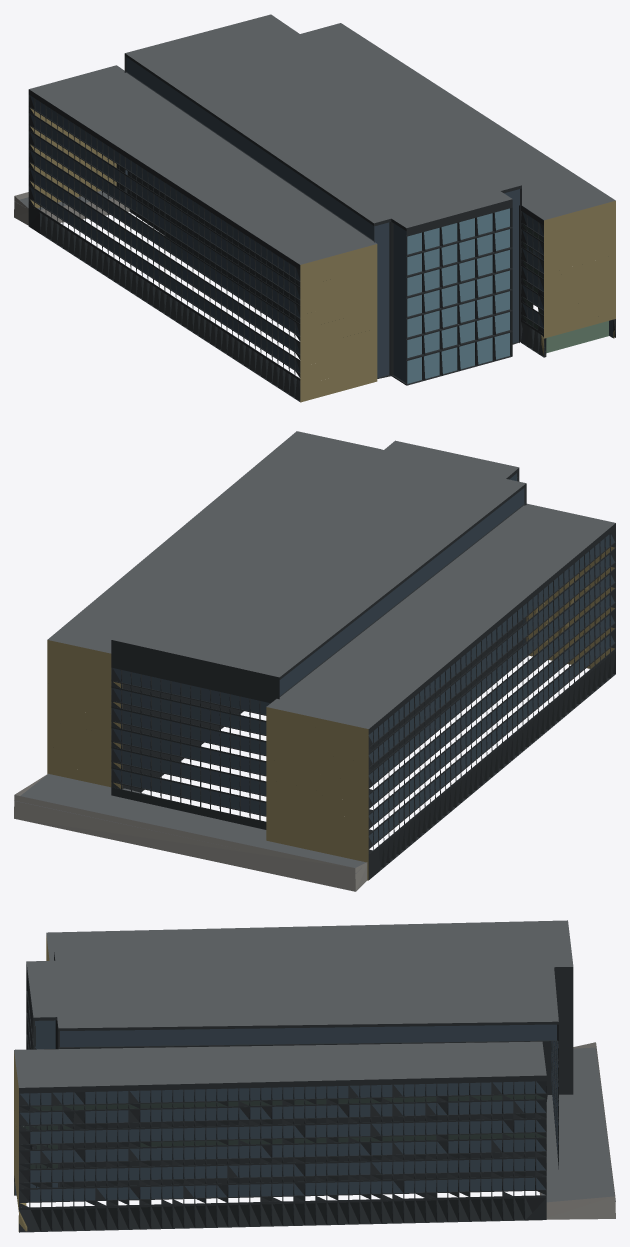
The model's file is forum-office.lod1.glb.
The picture shows the model from 3 angles, top to bottom: view 1: azimuth 30°, elevation 25°; view 2: azimuth 150°, elevation 25°; view 3: azimuth 270°, elevation 25°; orthographic projection. The views are drawn at different scales.
Visible parts, largest first — view 1: forum-office; view 2: forum-office; view 3: forum-office.
Boxes of the visible parts, x1,y1,x2,y2 form: forum-office: [14, 14, 615, 402]; forum-office: [14, 431, 615, 891]; forum-office: [14, 920, 615, 1232].
Size of the model in its own units: 65.55 by 30.1 by 99.1.
